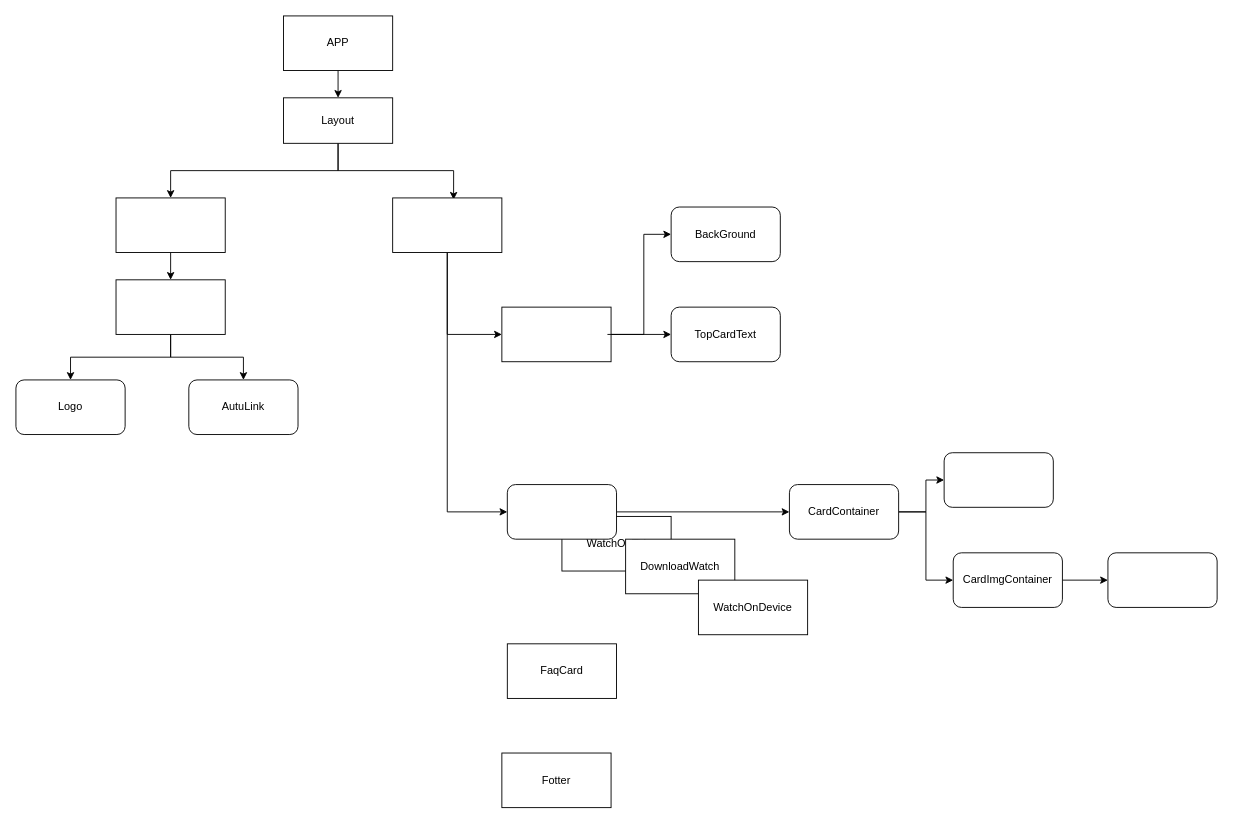
Some shapes in this 1233 by 824 pixel diagram are drawn without their labels. The box of each missing label's shape, as (x1, y1, x2, y2) in pixels:
CardImg: (1107, 552, 1217, 607)
CardText: (943, 452, 1053, 507)
Header: (115, 279, 225, 334)
HeaderWrapper: (115, 197, 225, 253)
MainWrapper: (392, 197, 502, 253)
StoryCard: (506, 484, 617, 539)
TopCard: (501, 306, 611, 362)
